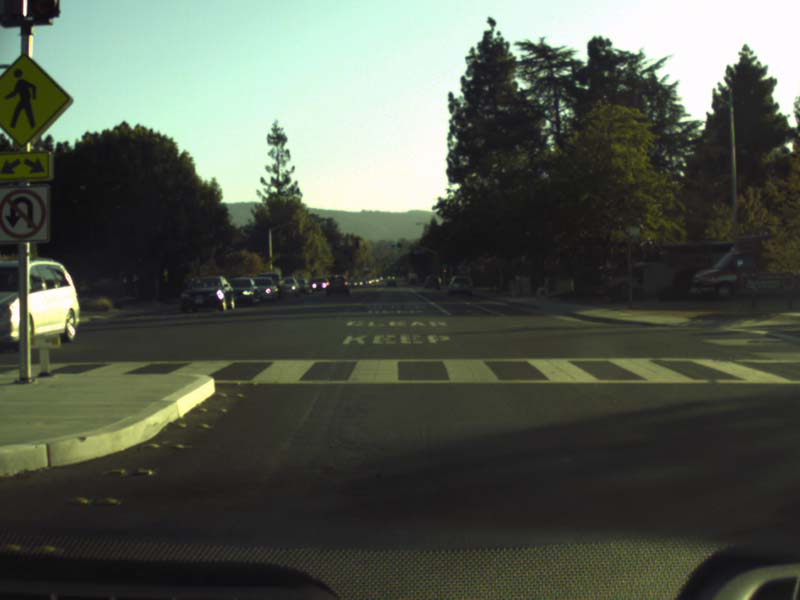Green: (397, 242, 400, 251)
Red: (442, 269, 446, 272)
